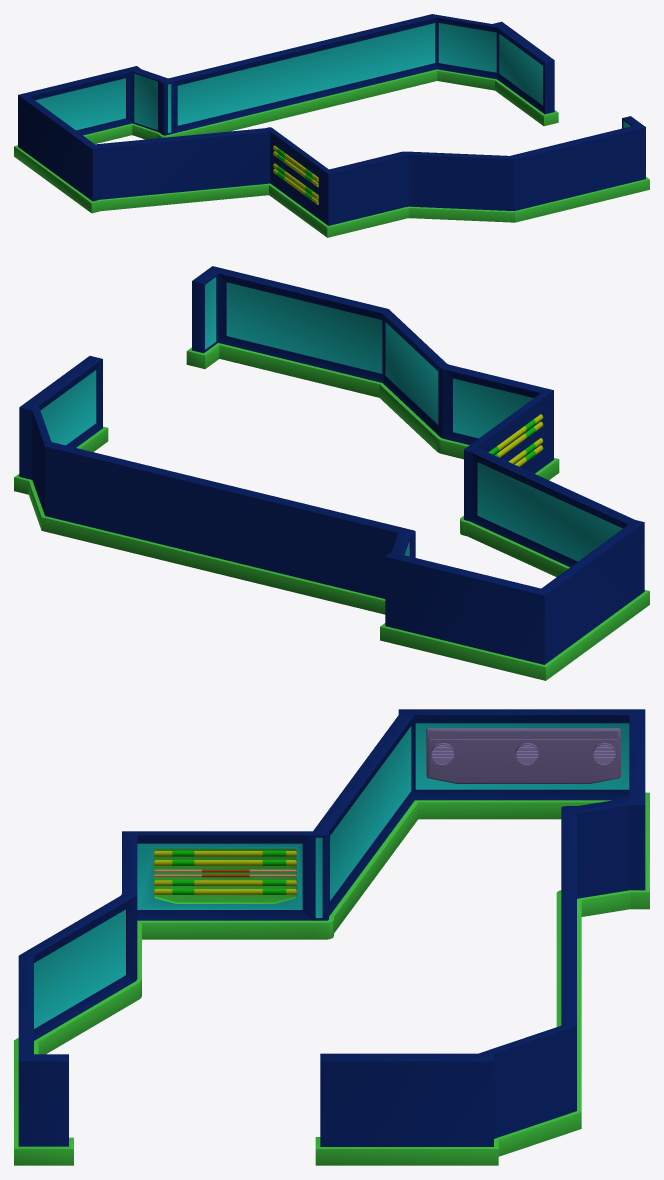
File: test wall 4th room.FBX
The picture shows the model from 3 angles, top to bottom: view 1: azimuth 30°, elevation 25°; view 2: azimuth 150°, elevation 25°; view 3: azimuth 270°, elevation 25°; orthographic projection. The views are drawn at different scales.
Parts seen in each view (by area): view 1: Box044; view 2: Box044; view 3: Box044.
Part boxes in pixels (left/top/right/bottom): Box044: left=14, top=14, right=649, bottom=237; Box044: left=14, top=266, right=649, bottom=680; Box044: left=14, top=709, right=649, bottom=1165.
Bounding box in the file's own units: 17009 × 2278 × 12833.
